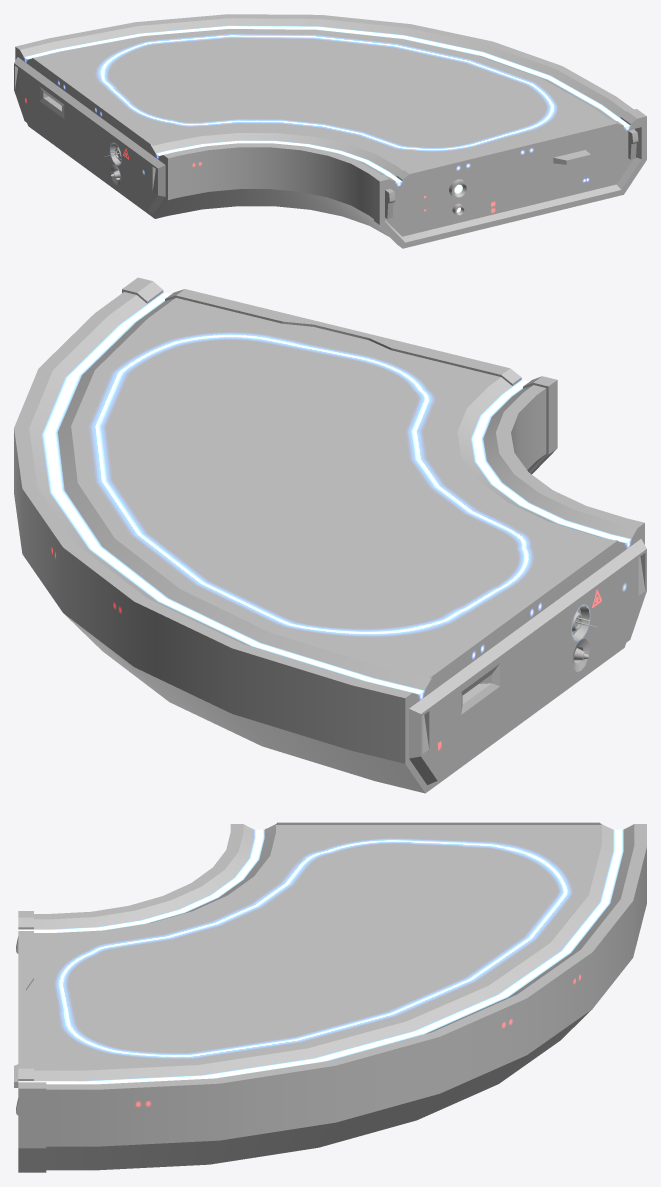
Rendered from TurnLeft_Caps.fbx.
3 views of the same model, one above another, from view 1: azimuth 30°, elevation 25°; view 2: azimuth 150°, elevation 25°; view 3: azimuth 270°, elevation 25° (orthographic). The views are drawn at different scales.
Visible parts, largest first — view 1: TurnLeft_Caps; view 2: TurnLeft_Caps; view 3: TurnLeft_Caps.
Boxes of the visible parts, box(x1,y1,x2,y2) form: TurnLeft_Caps: box(14, 14, 646, 248); TurnLeft_Caps: box(14, 277, 646, 793); TurnLeft_Caps: box(14, 822, 646, 1172).
Size of the model in its own units: 3.91 by 0.6517 by 3.76.
